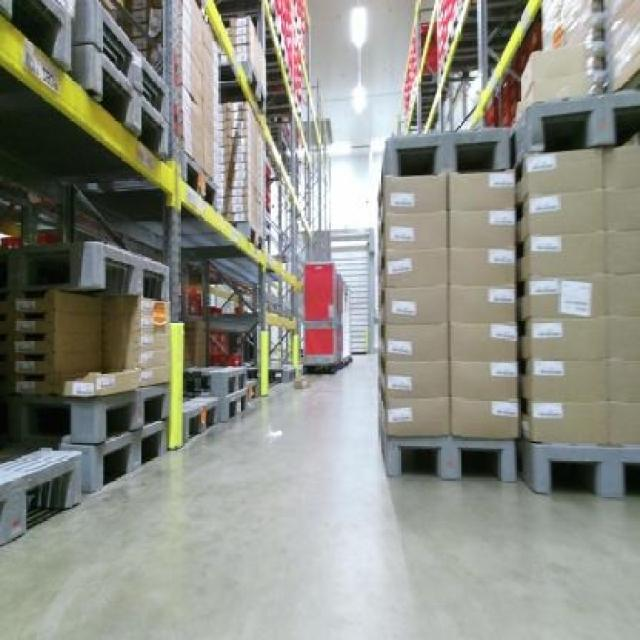floor: (0, 354, 637, 637)
pallets: (378, 91, 637, 492), (0, 448, 78, 541)
